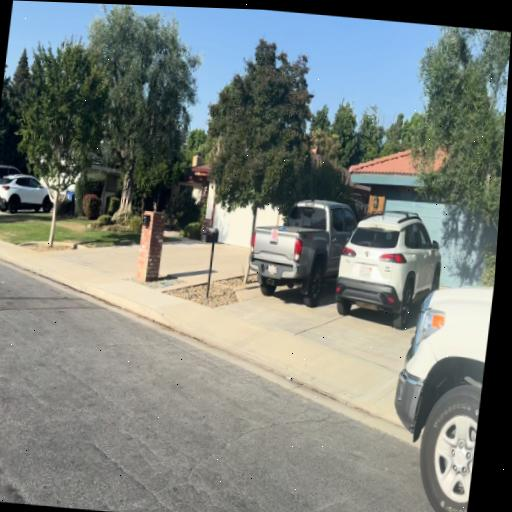bullseye: (271, 229, 278, 241)
